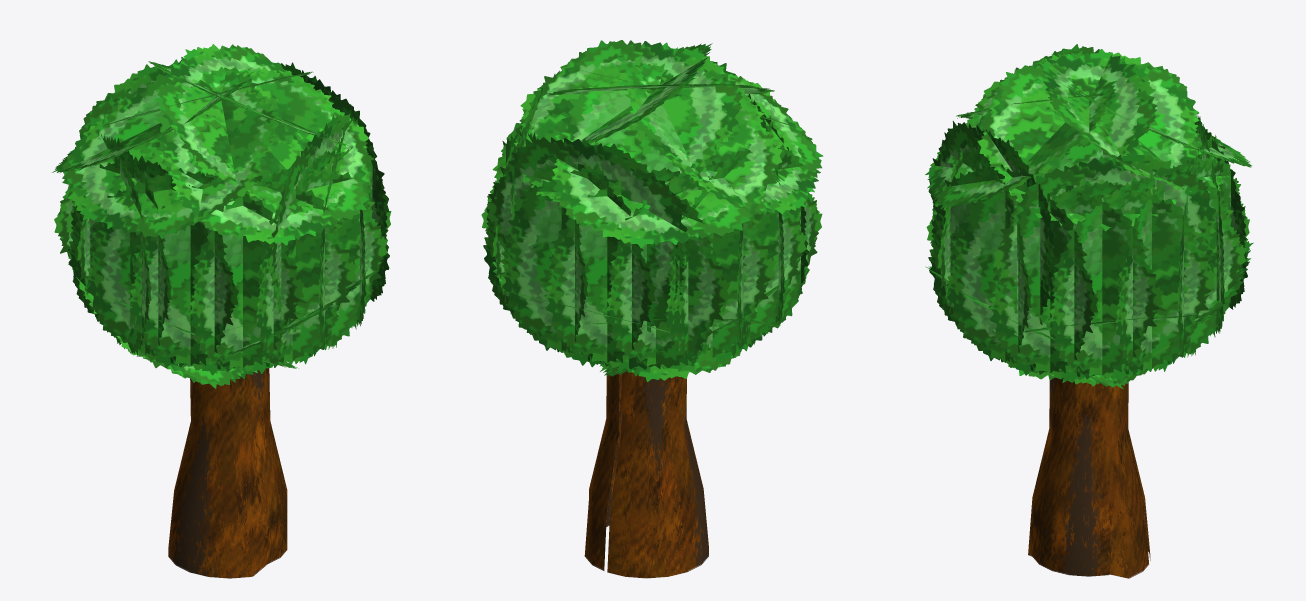
The model's file is 樹tree.FBX.
3 renders of one model, left to right at view 1: azimuth 30°, elevation 25°; view 2: azimuth 150°, elevation 25°; view 3: azimuth 270°, elevation 25°, orthographic.
Visible parts, largest first — view 1: object 1, Plane026, Plane020, Plane015, Plane014, Plane001, Plane031, Plane013, Plane030, Plane002, Plane021, Plane032 (+11 smaller); view 2: object 1, Plane032, Plane019, Plane010, Plane018, Plane026, Plane011, Plane009, Plane027, Plane008, Plane021, Plane025 (+9 smaller); view 3: object 1, Plane005, Plane004, Plane025, Plane006, Plane024, Plane031, Plane003, Plane007, Plane020, Plane030, Plane019 (+7 smaller).
Part boxes in pixels (box(x1,y1,x2,y2)): object 1: box(168, 368, 287, 578); Plane026: box(62, 69, 278, 238); Plane020: box(154, 66, 373, 245); Plane015: box(128, 175, 357, 375); Plane014: box(86, 168, 304, 370); Plane001: box(188, 166, 387, 373); Plane031: box(154, 44, 315, 209); Plane013: box(68, 155, 238, 365); Plane030: box(268, 114, 357, 332); Plane002: box(256, 146, 391, 364); Plane021: box(101, 134, 151, 356); Plane032: box(52, 68, 253, 173); object 1: box(584, 371, 708, 578); Plane032: box(551, 63, 782, 248); Plane019: box(514, 40, 742, 210); Plane010: box(544, 167, 775, 372); Plane018: box(487, 137, 688, 332); Plane026: box(625, 62, 823, 214); Plane011: box(605, 161, 806, 371); Plane009: box(501, 163, 680, 367); Plane027: box(581, 167, 729, 369); Plane008: box(483, 163, 656, 363); Plane021: box(665, 149, 822, 364); Plane025: box(581, 43, 712, 143); object 1: box(1028, 377, 1150, 578); Plane005: box(988, 181, 1215, 382); Plane004: box(946, 176, 1163, 377); Plane025: box(977, 49, 1202, 231); Plane006: box(1048, 173, 1246, 381); Plane024: box(993, 151, 1216, 313); Plane031: box(947, 44, 1157, 211); Plane003: box(928, 164, 1098, 372); Plane007: box(1115, 155, 1249, 371); Plane020: box(925, 80, 1116, 209); Plane030: box(928, 121, 1054, 324); Plane019: box(1039, 51, 1231, 194).
Bounding box in the file's own units: 46.6 × 65.94 × 49.44.
Materials: 1 (1 with a texture image).
